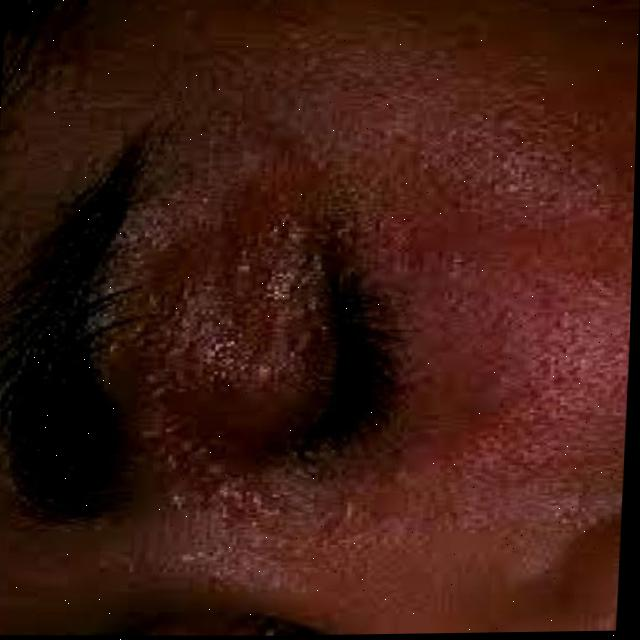Rosacea: (372, 95, 637, 531)
